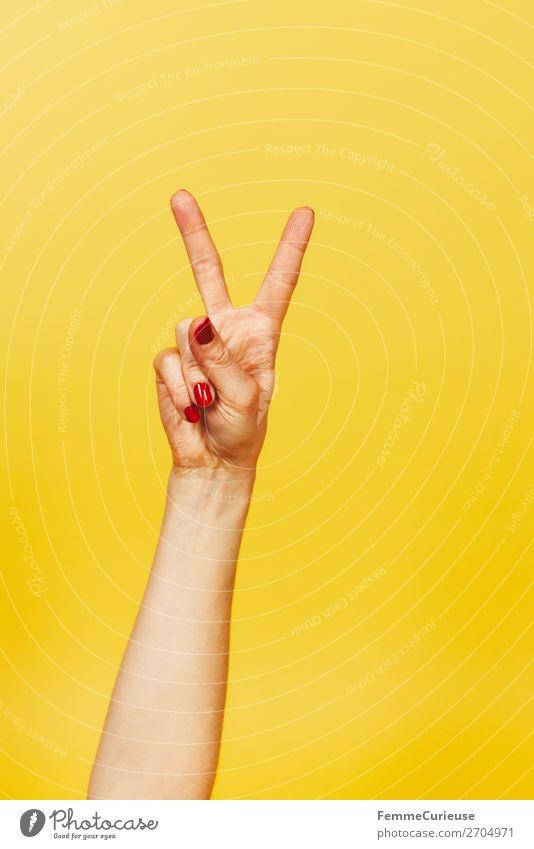peace_sign: (147, 177, 326, 496)
